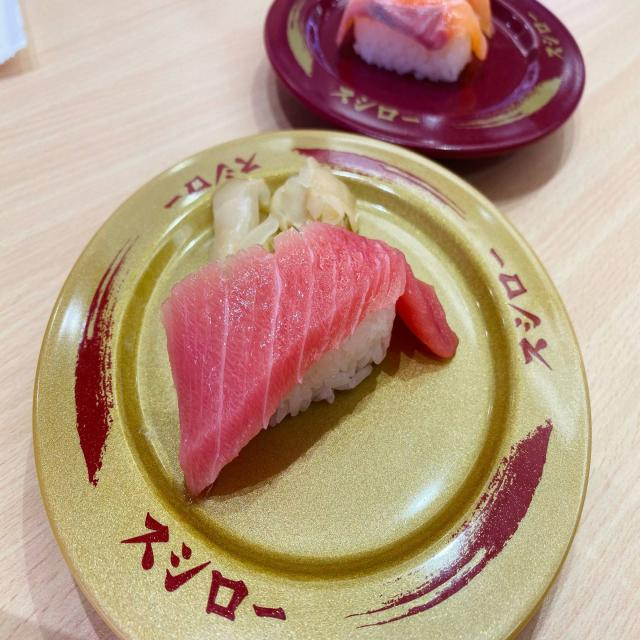jangold: (37, 124, 621, 640)
janred: (266, 7, 580, 158)
